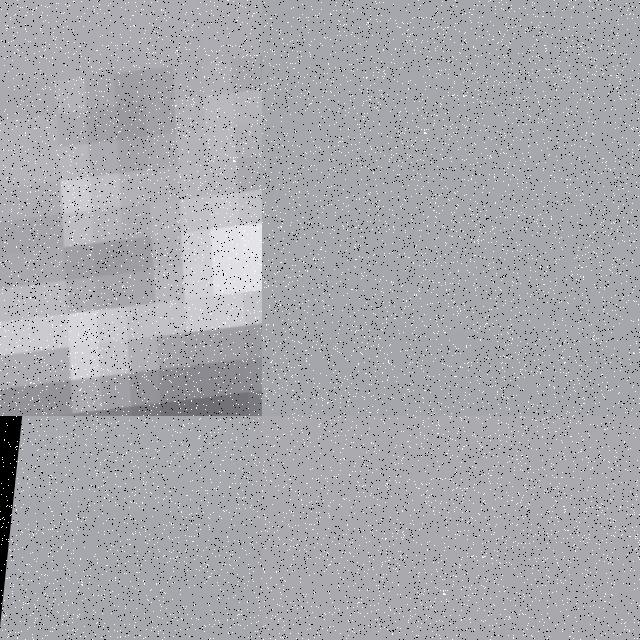drone: (0, 0, 262, 416)
